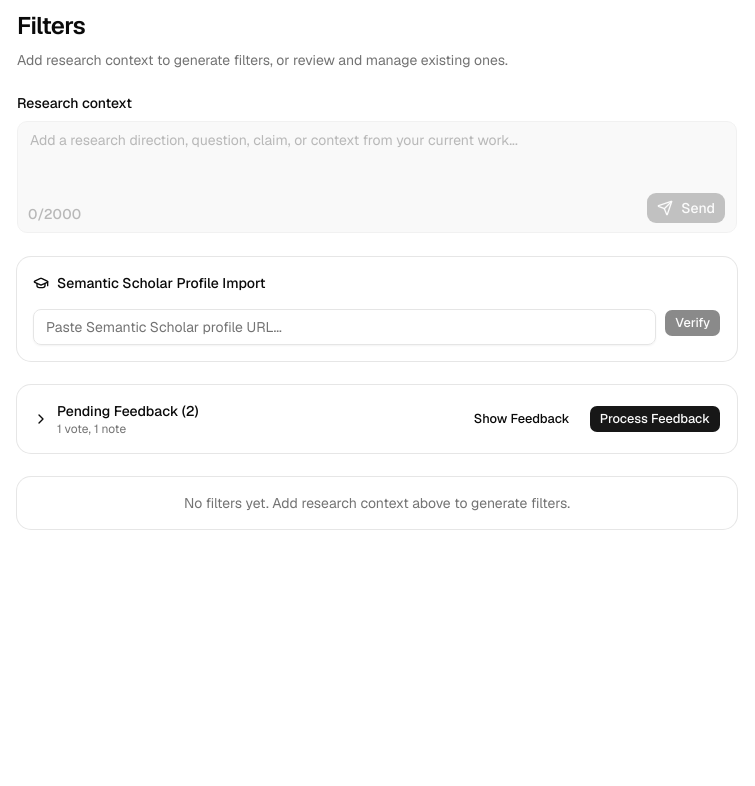
Test: FiltersPage › expands pending feedback and processes the listed items
expect the text "Pending Feedback (2)" is shown: met, box [57,401,199,421]
What coordinates should you click on to do the following:
click the button "Show Feedback"
I would click on:
 (522, 419)
Its box is [463,405,581,433].
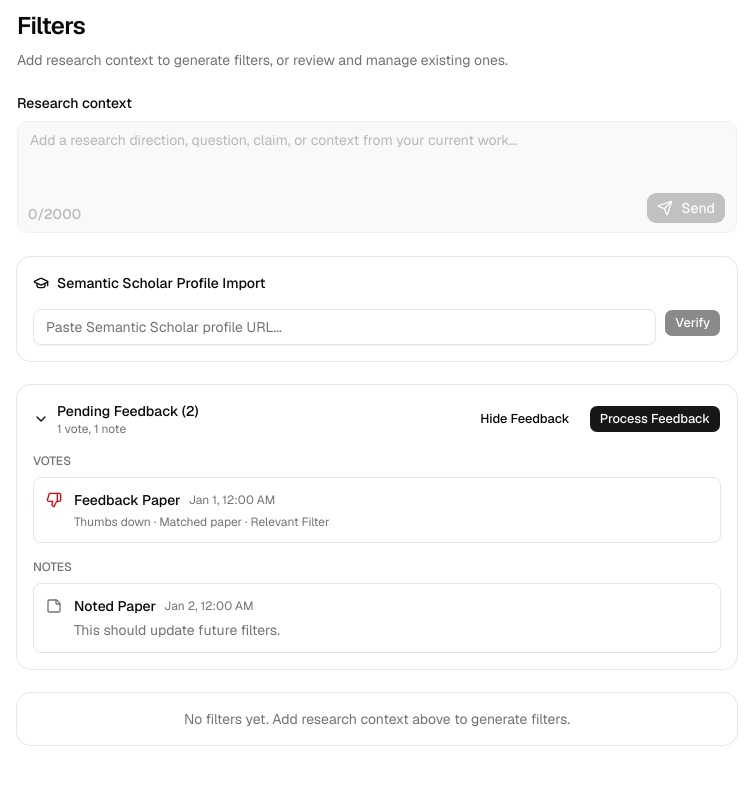
expect the link "Feedback Paper" is shown: met, box [74,490,181,510]
expect the text "Thumbs down · Matched paper · Relevant Filter" is shown: met, box [74,514,330,530]
expect the link "Noted Paper" is shown: met, box [74,596,156,616]
What coordinates should you click on to do the following:
click the button "Process Feedback"
I would click on:
 (655, 419)
Its box is [589,405,721,433].
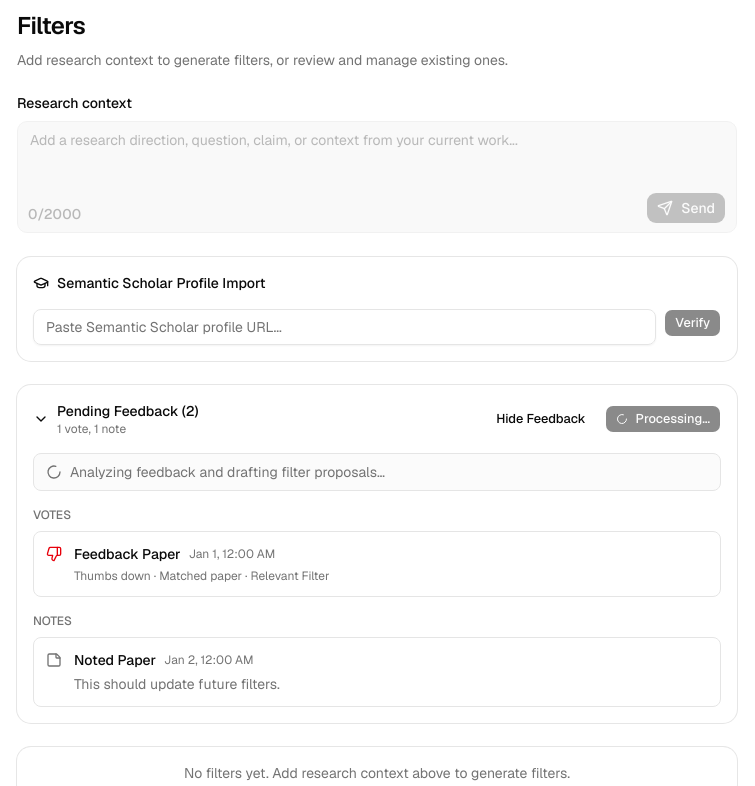
expect the button named "process feedback" is disabled: met, box [605,405,721,433]
expect the button named "process feedback" shows "Processing": met, box [605,405,721,433]
expect the text "Analyzing feedback and drafting filter proposals…" is shown: met, box [70,462,385,482]
